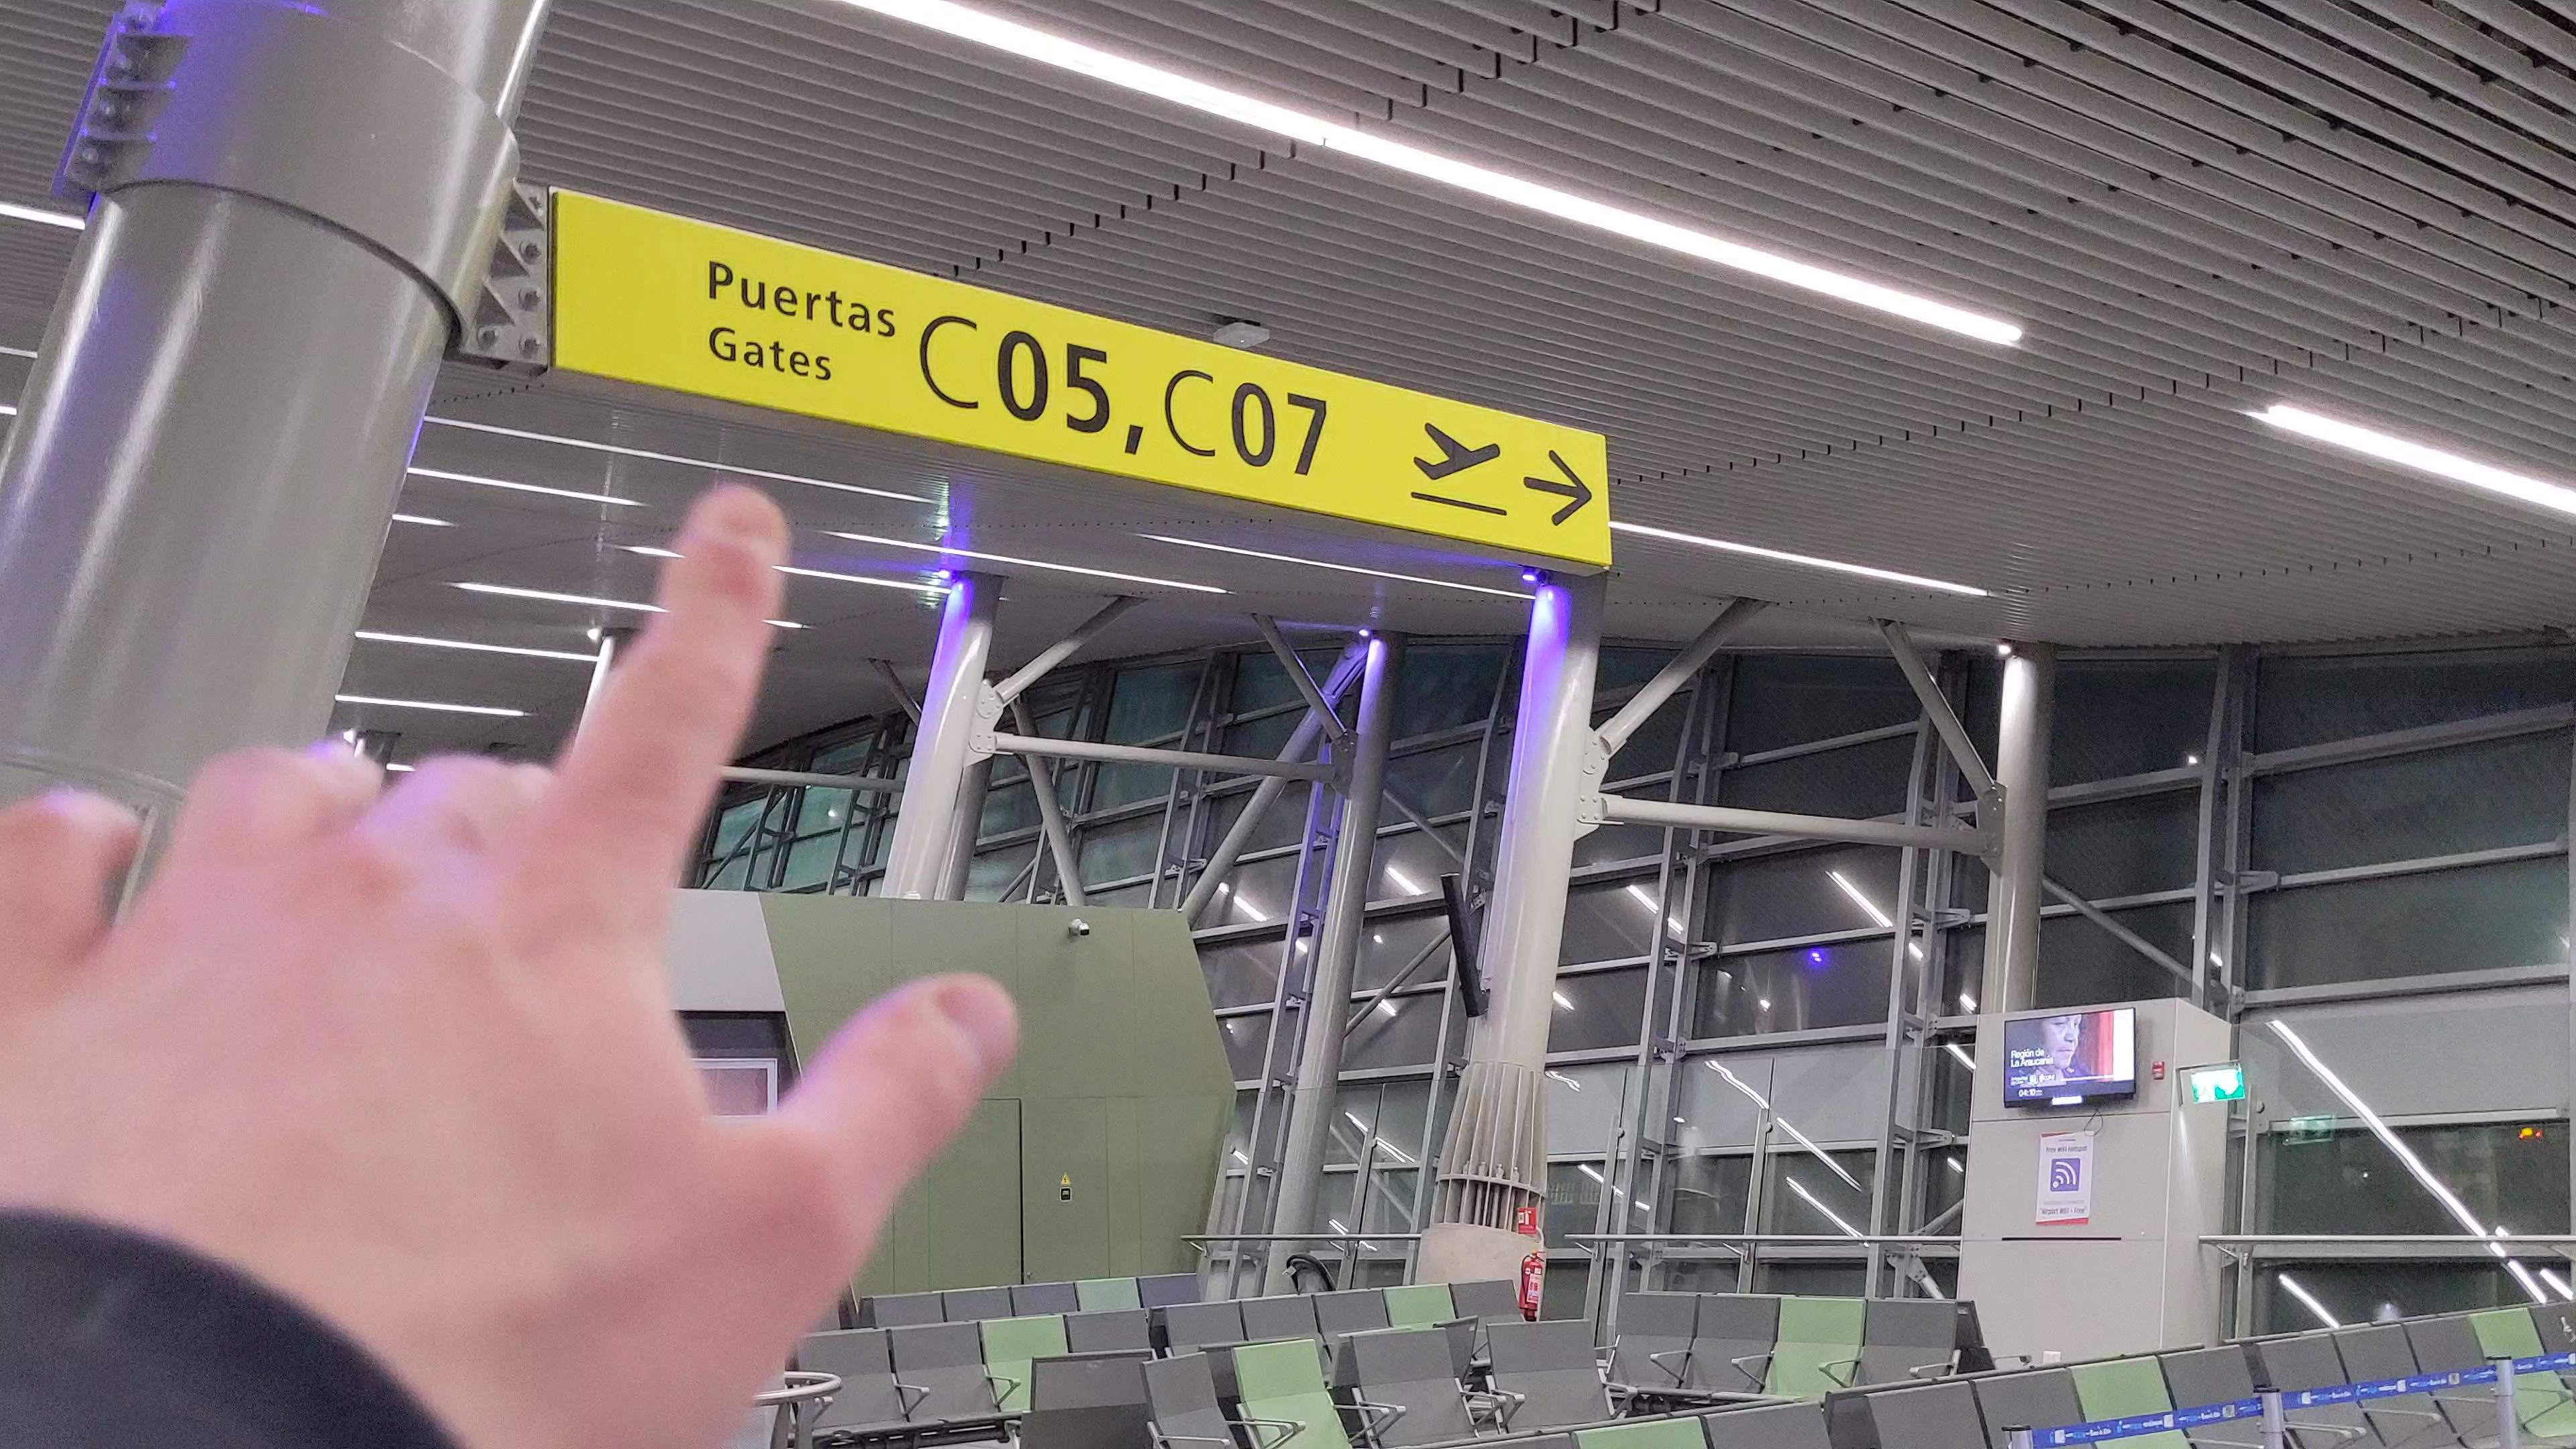airplane symbol: (1412, 419, 1502, 483)
emergency exit: (2288, 1116, 2307, 1143)
emergency right arrow: (2307, 1116, 2330, 1139)
right arrow: (1520, 444, 1599, 534)
